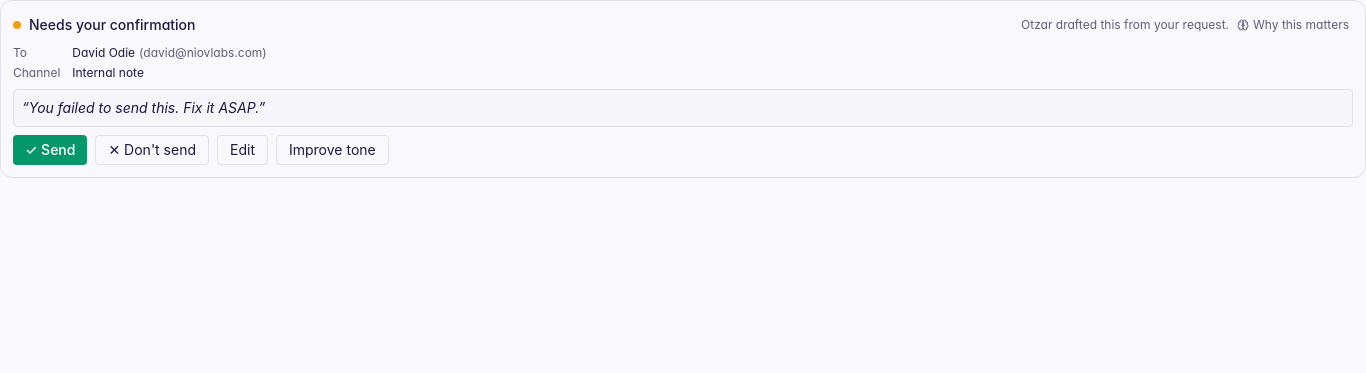
ProposedActionCard — advisory draft tone › applies the suggested revision to the local draft WITHOUT sending; original is recoverable
Click the button with test id "ctx-improve-tone-button" at [332, 150], box [276,135,389,165]
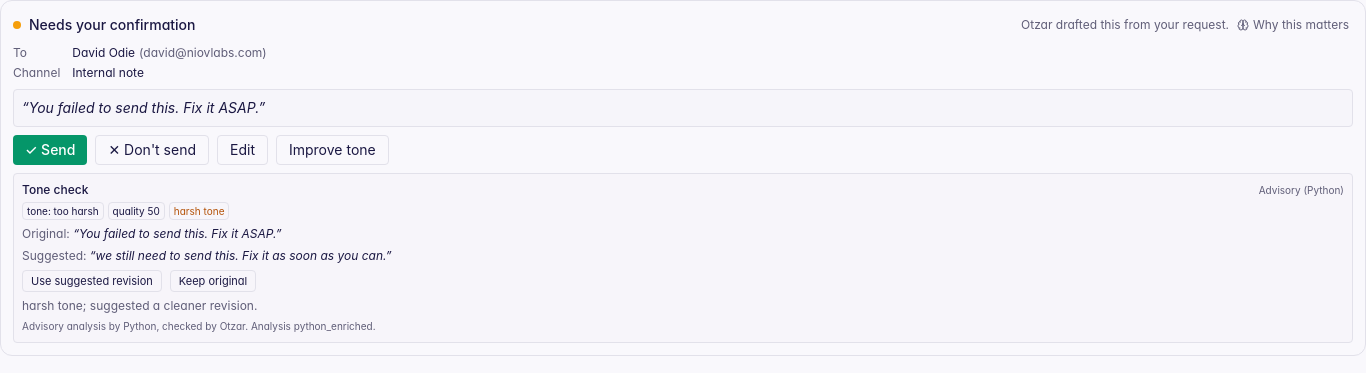
expect the button with test id "ctx-tone-use" is shown: met
Click the button with test id "ctx-tone-use" at [92, 281], box [22,270,162,292]
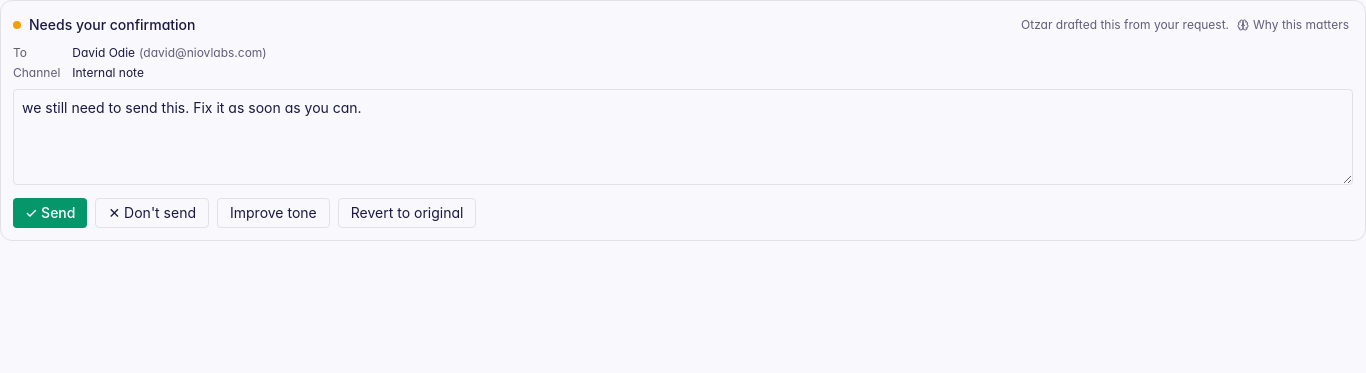
expect the button with test id "ctx-send-button" is shown: met, box [13,198,88,228]
# Original is recoverable.
Click the button with test id "ctx-revert-original" at [407, 213], box [338,198,476,228]
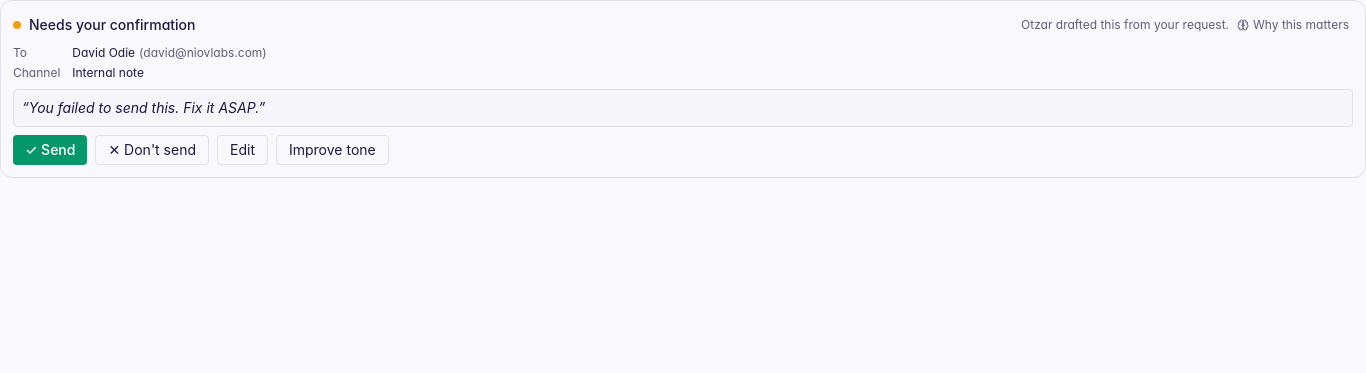
expect the text with test id "ctx-draft" shows "You failed to send this": met, box [29,99,258,116]
